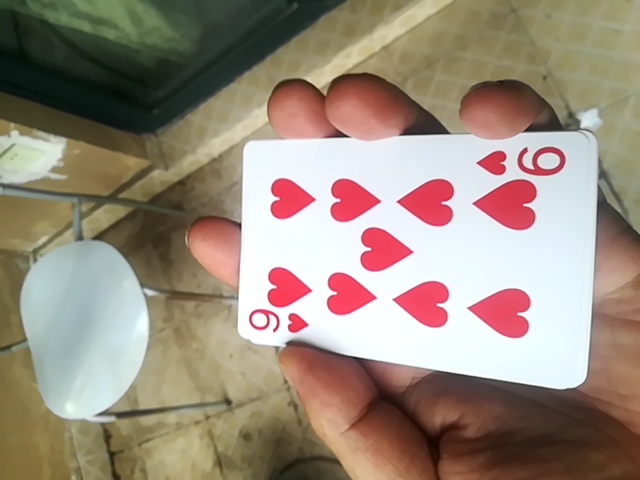hx 9: (231, 132, 594, 393)
